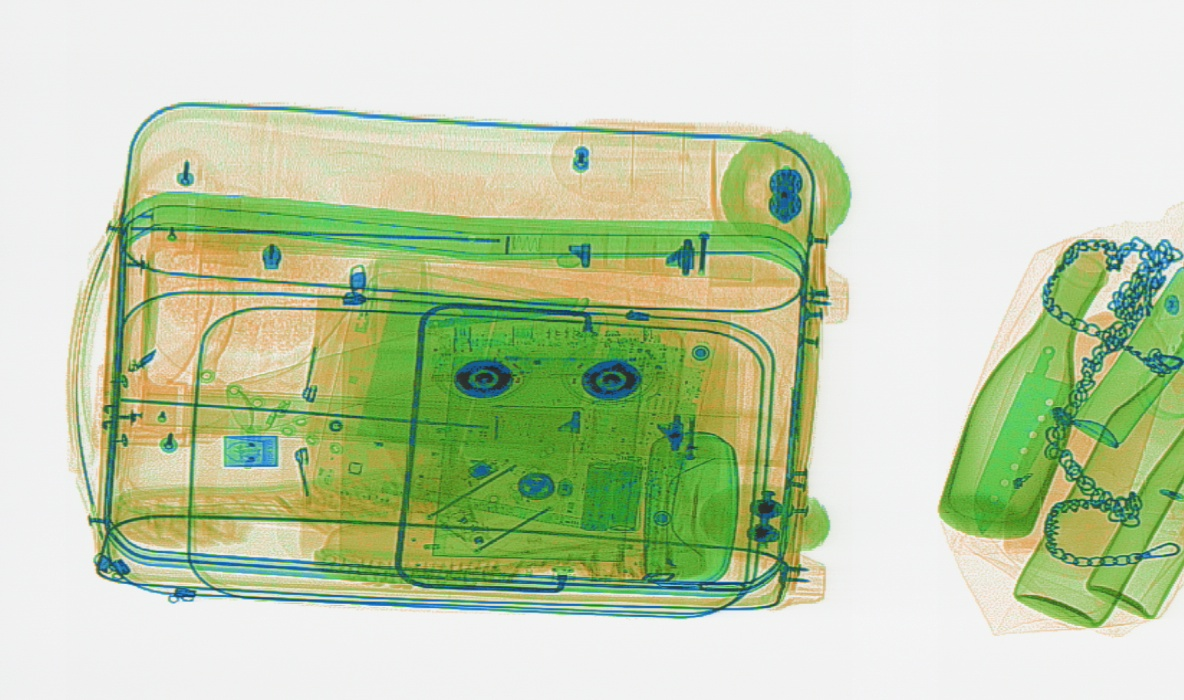knife: (971, 259, 1080, 532)
pressure: (221, 320, 469, 429)
